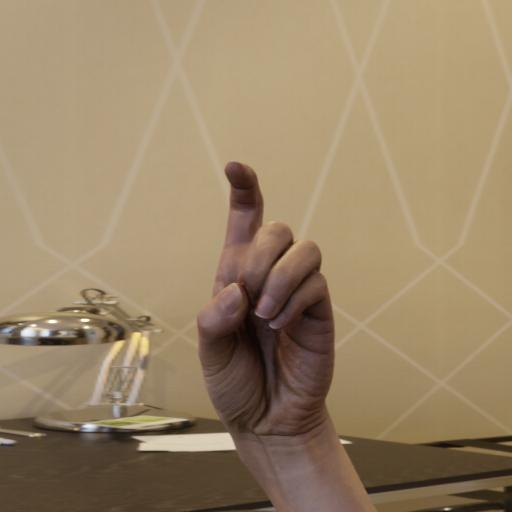X: (194, 158, 336, 430)
